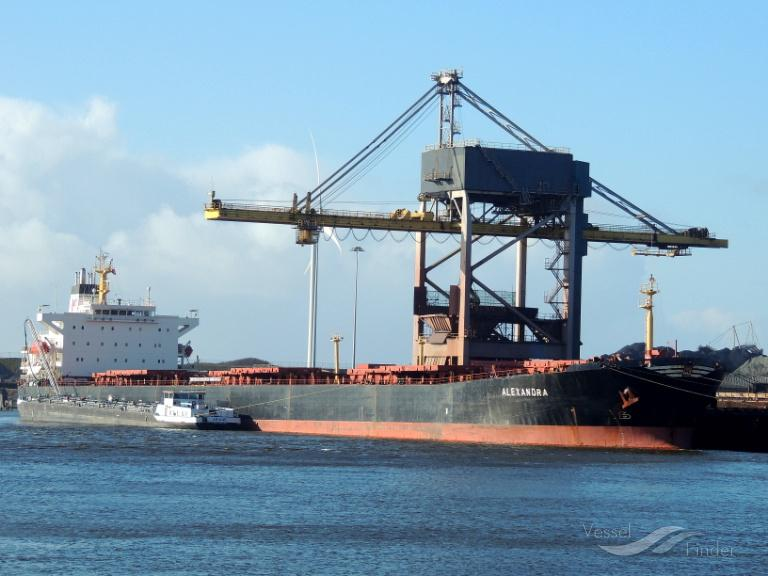OCR: (494, 376, 556, 396)
